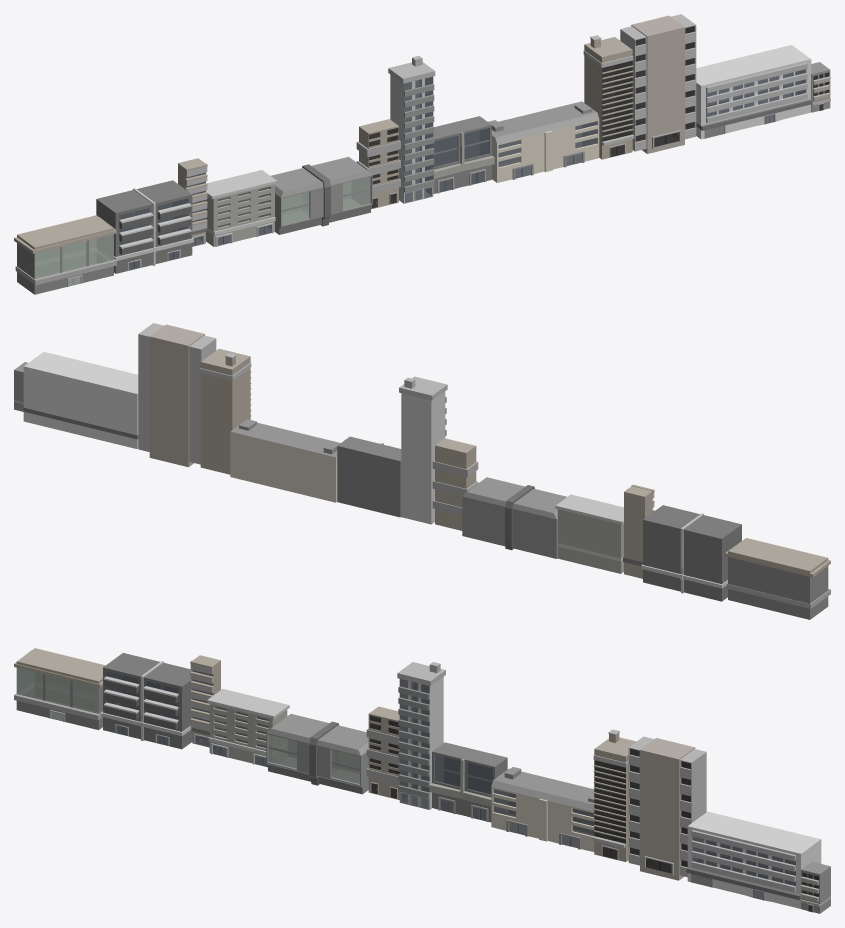
Rendered from Buildings6.glb.
The picture shows the model from 3 angles, top to bottom: view 1: azimuth 30°, elevation 25°; view 2: azimuth 150°, elevation 25°; view 3: azimuth 330°, elevation 25°; orthographic projection. The views are drawn at different scales.
Visible parts, largest first — view 1: Building78-convcol, Building79-convcol, Building69-convcol, Building76-convcol, Building68-convcol, Building72-convcol, Building74-convcol, Building77-convcol, Building71-convcol, Building75-convcol, Building73-convcol, Building70-convcol (+1 smaller); view 2: Building78-convcol, Building79-convcol, Building69-convcol, Building76-convcol, Building68-convcol, Building72-convcol, Building74-convcol, Building77-convcol, Building75-convcol, Building71-convcol, Building73-convcol, Building70-convcol; view 3: Building78-convcol, Building79-convcol, Building69-convcol, Building76-convcol, Building72-convcol, Building74-convcol, Building68-convcol, Building71-convcol, Building75-convcol, Building77-convcol, Building73-convcol, Building70-convcol (+1 smaller).
Part boxes in pixels (x1,y1,x2,y2): Building78-convcol: [620, 14, 696, 153]; Building79-convcol: [696, 45, 812, 139]; Building69-convcol: [96, 180, 193, 273]; Building76-convcol: [488, 101, 599, 182]; Building68-convcol: [14, 215, 116, 294]; Building72-convcol: [261, 157, 372, 234]; Building74-convcol: [388, 56, 435, 203]; Building77-convcol: [583, 35, 634, 159]; Building71-convcol: [206, 170, 276, 246]; Building75-convcol: [420, 116, 494, 193]; Building73-convcol: [356, 119, 400, 209]; Building70-convcol: [177, 158, 207, 246]; Building78-convcol: [138, 323, 216, 467]; Building79-convcol: [23, 352, 138, 448]; Building69-convcol: [641, 505, 741, 601]; Building76-convcol: [230, 419, 340, 502]; Building68-convcol: [725, 538, 830, 619]; Building72-convcol: [462, 477, 566, 558]; Building74-convcol: [399, 376, 447, 524]; Building77-convcol: [200, 348, 251, 474]; Building75-convcol: [337, 436, 401, 517]; Building71-convcol: [555, 494, 623, 573]; Building73-convcol: [432, 438, 478, 530]; Building70-convcol: [623, 484, 654, 578]; Building78-convcol: [628, 736, 706, 880]; Building79-convcol: [686, 811, 821, 908]; Building69-convcol: [101, 653, 192, 749]; Building76-convcol: [491, 767, 594, 851]; Building72-convcol: [266, 714, 368, 794]; Building74-convcol: [397, 662, 445, 809]; Building68-convcol: [14, 648, 105, 729]; Building71-convcol: [207, 689, 289, 767]; Building75-convcol: [429, 742, 507, 822]; Building77-convcol: [592, 729, 636, 861]; Building73-convcol: [366, 706, 399, 799]; Building70-convcol: [190, 655, 220, 747].
Size of the model in its own units: 258 by 42.82 by 17.93.
